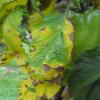Potato leaf early blight: (26, 12, 77, 99)
